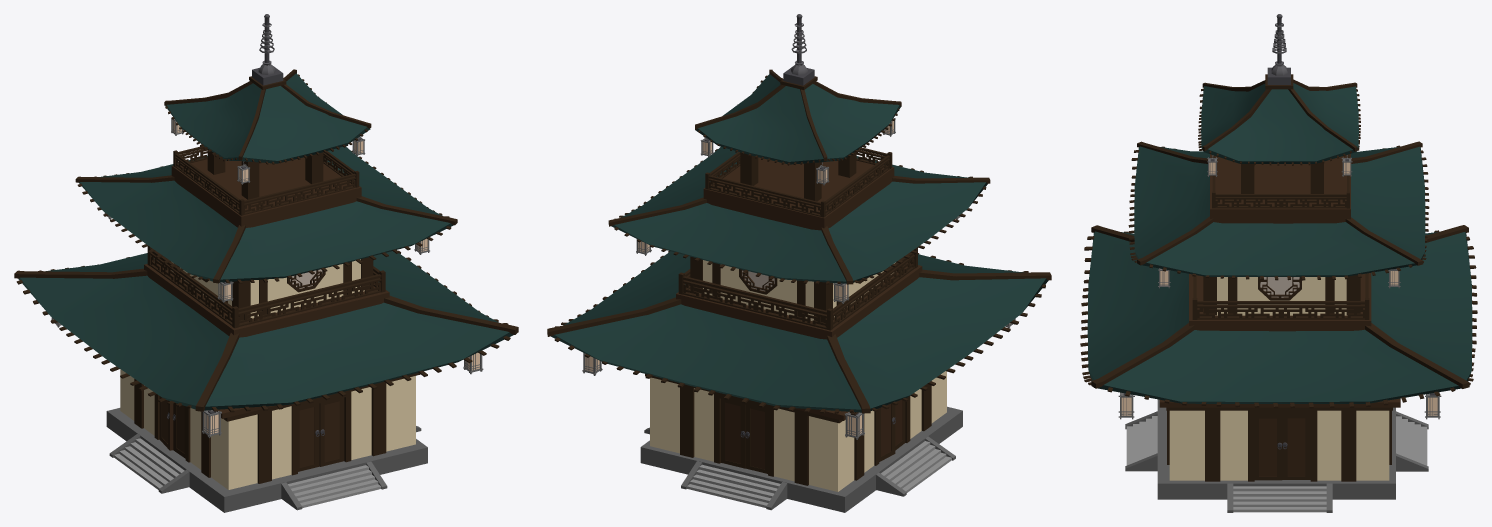
Rendered from houme09 2.fbx.
3 renders of one model, left to right at view 1: azimuth 30°, elevation 25°; view 2: azimuth 150°, elevation 25°; view 3: azimuth 270°, elevation 25°, orthographic.
Parts seen in each view (by area): view 1: houme9_2, fence_9_1_2, fence_9_2_2, on_the_roof_9_1_2, Lantern_9_1_2, Lantern_9_3_2; view 2: houme9_2, fence_9_1_2, fence_9_2_2, on_the_roof_9_1_2, Lantern_9_1_2, Lantern_9_3_2; view 3: houme9_2, fence_9_1_2, fence_9_2_2, on_the_roof_9_1_2, Lantern_9_1_2.
Boxes of the visible parts, left/top/right/bottom form: houme9_2: left=14, top=69, right=518, bottom=512; fence_9_1_2: left=147, top=246, right=385, bottom=328; fence_9_2_2: left=173, top=146, right=359, bottom=215; on_the_roof_9_1_2: left=252, top=14, right=283, bottom=85; Lantern_9_1_2: left=51, top=317, right=483, bottom=437; Lantern_9_3_2: left=171, top=117, right=365, bottom=184; houme9_2: left=547, top=69, right=1051, bottom=512; fence_9_1_2: left=678, top=247, right=917, bottom=330; fence_9_2_2: left=705, top=147, right=892, bottom=217; on_the_roof_9_1_2: left=783, top=14, right=814, bottom=85; Lantern_9_1_2: left=582, top=318, right=1015, bottom=439; Lantern_9_3_2: left=700, top=118, right=895, bottom=185; houme9_2: left=1080, top=74, right=1477, bottom=512; fence_9_1_2: left=1192, top=273, right=1369, bottom=319; fence_9_2_2: left=1212, top=154, right=1349, bottom=208; on_the_roof_9_1_2: left=1267, top=14, right=1290, bottom=84; Lantern_9_1_2: left=1118, top=392, right=1441, bottom=419.
Size of the model in its own units: 1570 by 1904 by 1574.
